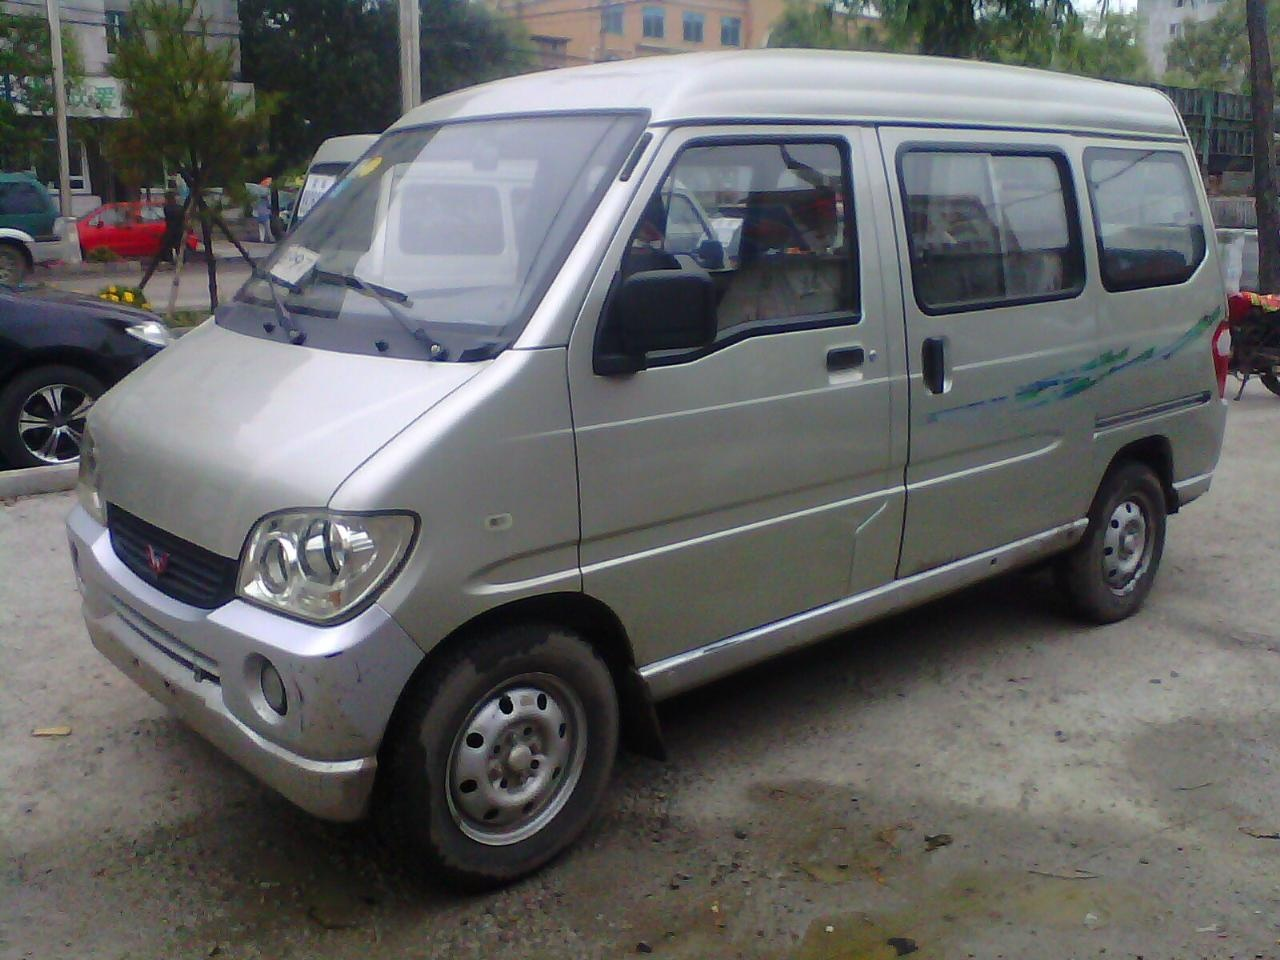minibus: (88, 47, 1245, 885)
